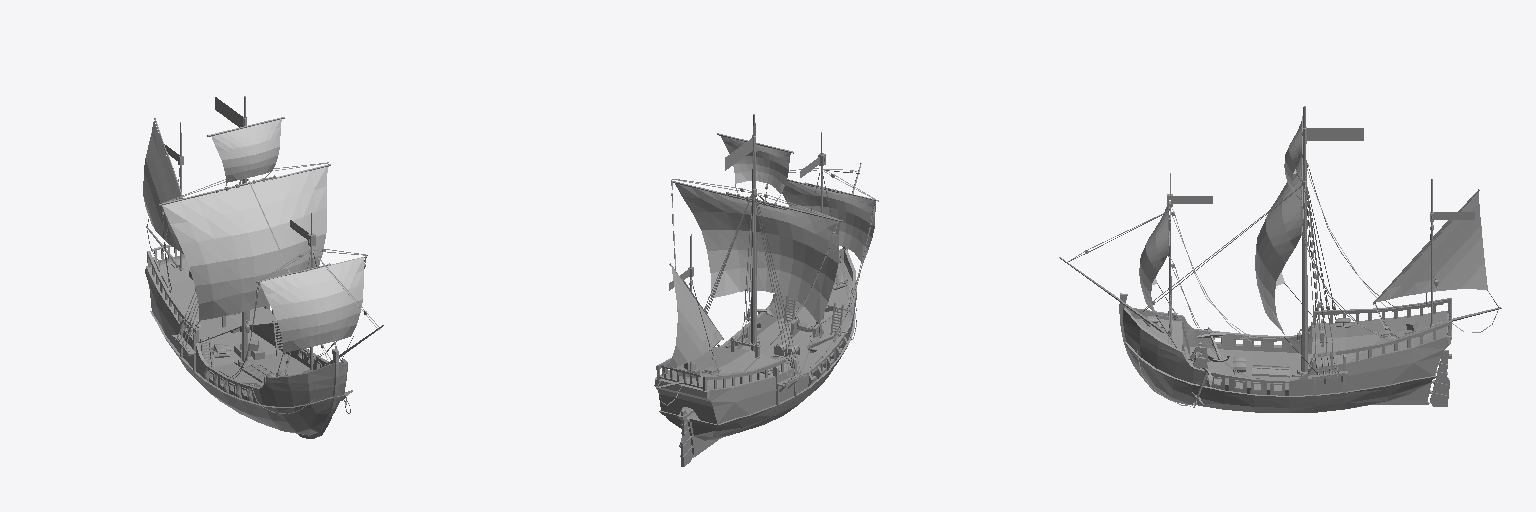
The model's file is Ship.obj.
3 renders of one model, left to right at view 1: azimuth 30°, elevation 25°; view 2: azimuth 150°, elevation 25°; view 3: azimuth 270°, elevation 25°, orthographic.
Visible parts, largest first — view 1: Sails, Ship, Detail, Flags; view 2: Ship, Sails, Detail, Flags; view 3: Ship, Sails, Flags, Detail.
Boxes of the visible parts, x1=… form: Sails: x1=143, y1=119, x2=363, y2=352; Ship: x1=145, y1=96, x2=383, y2=438; Detail: x1=186, y1=271, x2=312, y2=383; Flags: x1=163, y1=97, x2=308, y2=239; Ship: x1=654, y1=114, x2=878, y2=466; Sails: x1=667, y1=136, x2=875, y2=367; Detail: x1=679, y1=273, x2=847, y2=377; Flags: x1=669, y1=138, x2=819, y2=290; Ship: x1=1059, y1=106, x2=1501, y2=412; Sails: x1=1139, y1=121, x2=1487, y2=334; Flags: x1=1173, y1=128, x2=1474, y2=219; Detail: x1=1143, y1=276, x2=1438, y2=374.
Bounding box in the file's own units: 4.49 × 7.49 × 10.04.